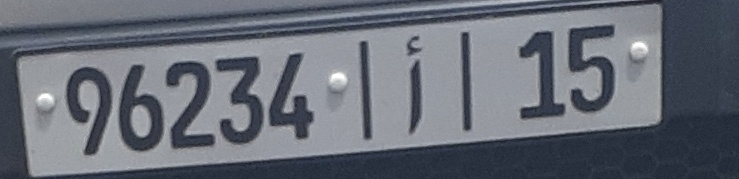1: (504, 21, 569, 122)
2: (165, 55, 211, 149)
3: (209, 53, 266, 148)
4: (266, 49, 322, 141)
5: (567, 19, 626, 117)
6: (117, 53, 163, 154)
9: (56, 61, 110, 161)
a: (389, 30, 437, 138)
